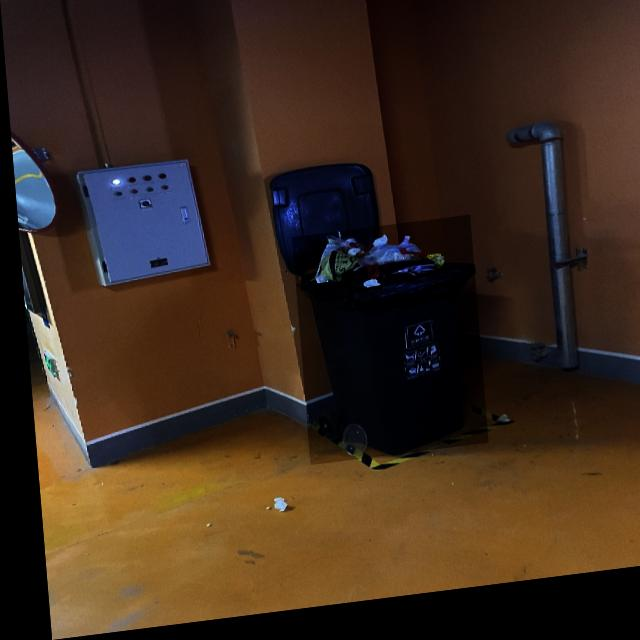overflow: (287, 227, 480, 473)
